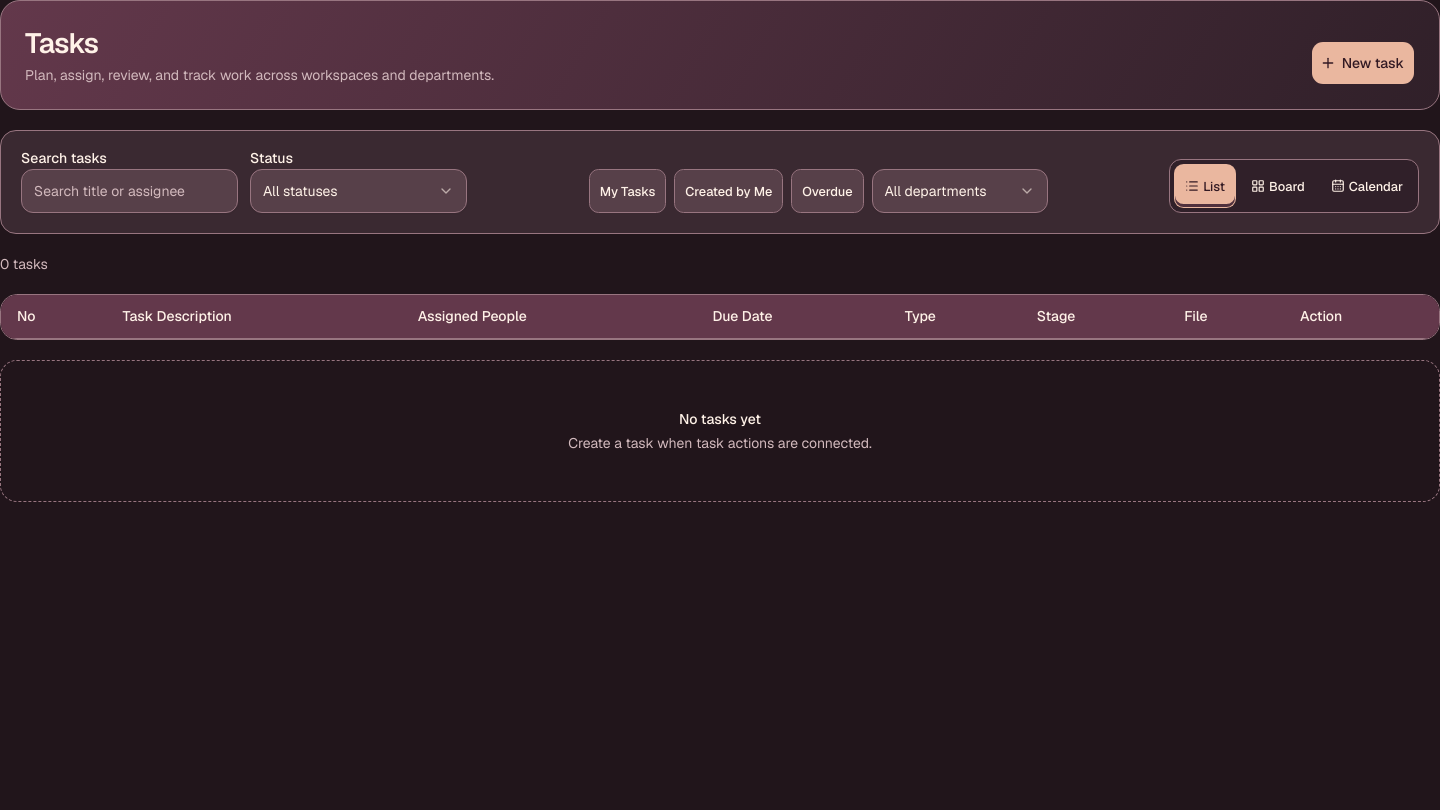
Test: TasksManager › offers a New task action to a Department Manager and opens the create dialog
Expected: the text "No tasks yet" is shown, top-left (679, 410), bottom-right (761, 428)
What coordinates should you click on to do the following:
click the button "New task"
I would click on:
 (1363, 63)
Its box is top-left (1311, 41), bottom-right (1415, 85).
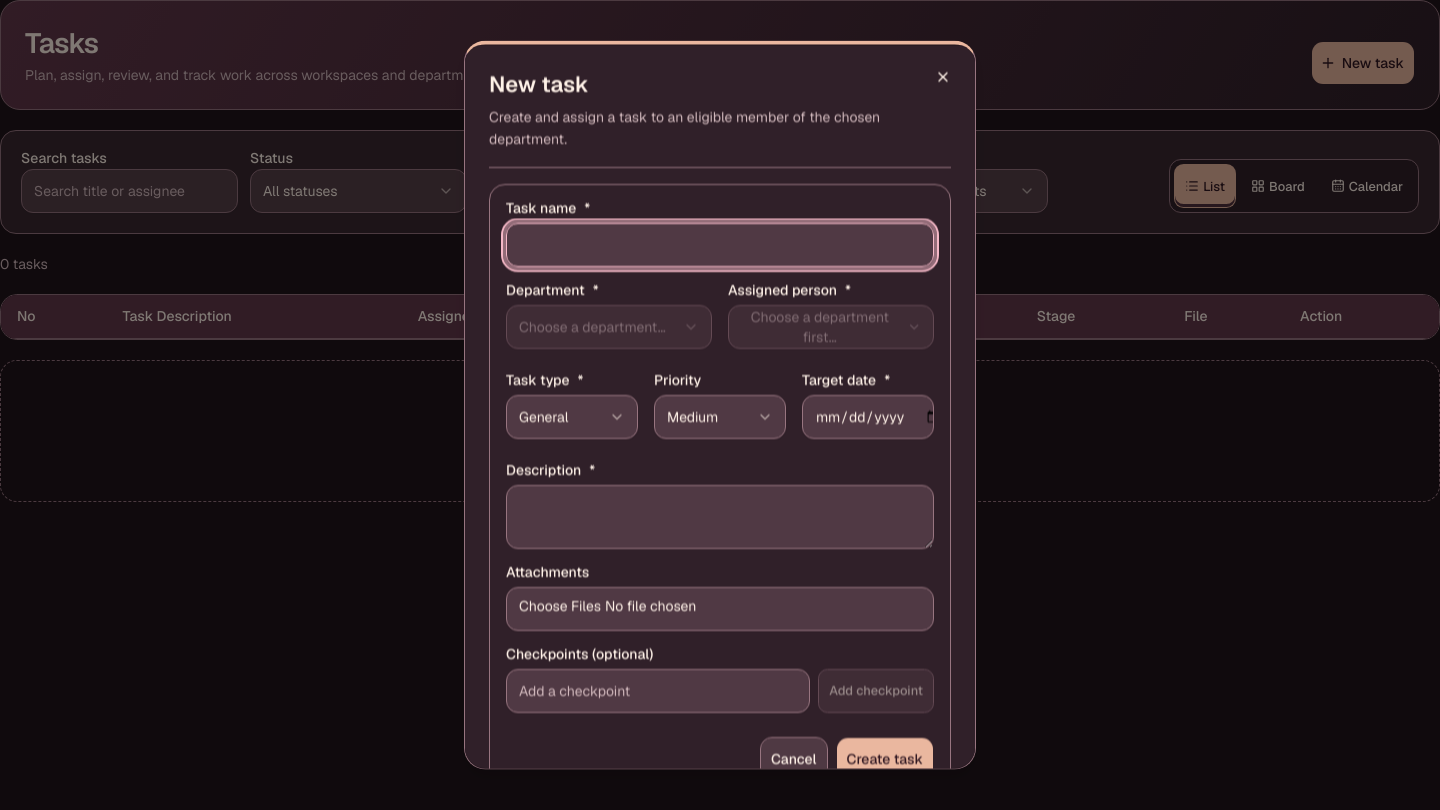
Expected: the heading "New task" is shown, top-left (489, 70), bottom-right (589, 98)
Expected: the dropdown labelled "department" is disabled, top-left (506, 304), bottom-right (712, 348)
